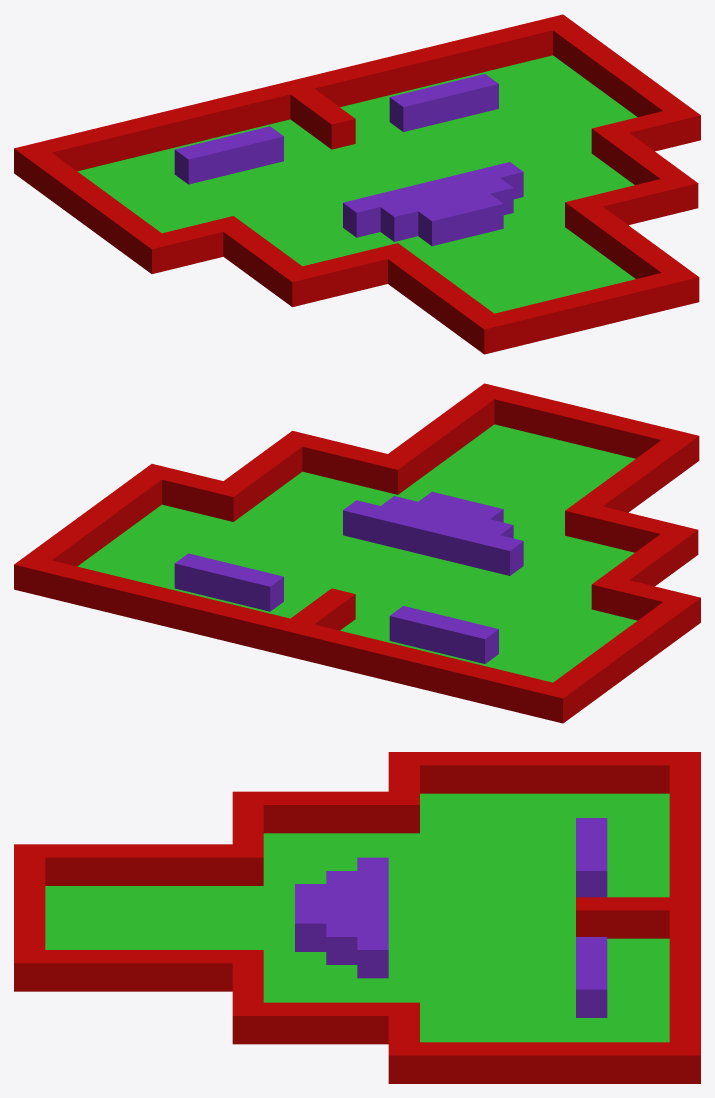
Rendered from Arena_Level2.obj.
3 views of the same model, one above another, from view 1: azimuth 30°, elevation 25°; view 2: azimuth 150°, elevation 25°; view 3: azimuth 270°, elevation 25° (orthographic). The views are drawn at different scales.
Parts seen in each view (by area): view 1: Cube_Cube.001, Plane, Cube.003_Cube.004, Cube.002_Cube.003, Cube.001_Cube.002; view 2: Cube_Cube.001, Plane, Cube.003_Cube.004, Cube.001_Cube.002, Cube.002_Cube.003; view 3: Plane, Cube_Cube.001, Cube.003_Cube.004, Cube.002_Cube.003, Cube.001_Cube.002.
Part boxes in pixels (x1=…): Cube_Cube.001: x1=14, y1=14, x2=700, y2=354; Plane: x1=77, y1=55, x2=637, y2=313; Cube.003_Cube.004: x1=343, y1=162, x2=523, y2=246; Cube.002_Cube.003: x1=389, y1=74, x2=498, y2=131; Cube.001_Cube.002: x1=174, y1=126, x2=283, y2=184; Cube_Cube.001: x1=14, y1=383, x2=700, y2=723; Plane: x1=77, y1=424, x2=637, y2=682; Cube.003_Cube.004: x1=343, y1=491, x2=523, y2=575; Cube.001_Cube.002: x1=389, y1=606, x2=498, y2=663; Cube.002_Cube.003: x1=174, y1=553, x2=283, y2=611; Plane: x1=45, y1=793, x2=669, y2=1042; Cube_Cube.001: x1=14, y1=752, x2=700, y2=1083; Cube.003_Cube.004: x1=295, y1=857, x2=388, y2=978; Cube.002_Cube.003: x1=576, y1=937, x2=607, y2=1017; Cube.001_Cube.002: x1=576, y1=818, x2=607, y2=897.
Bounding box in the file's own units: 23 × 1 × 22.
